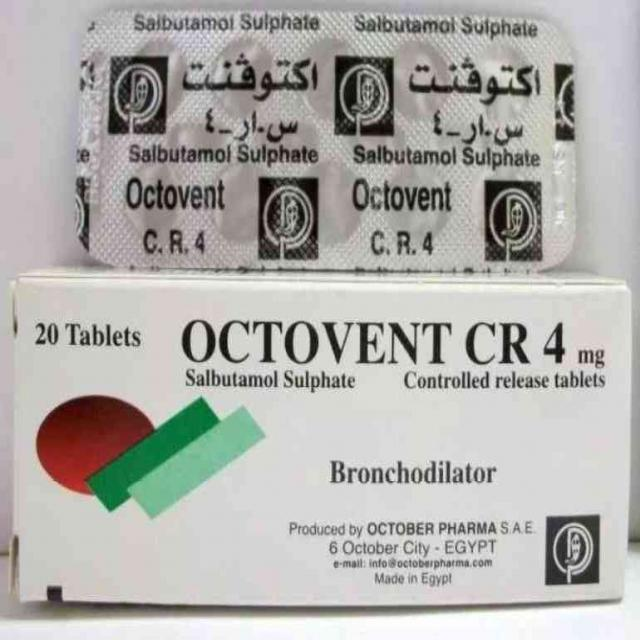drug-name: (183, 315, 566, 364)
